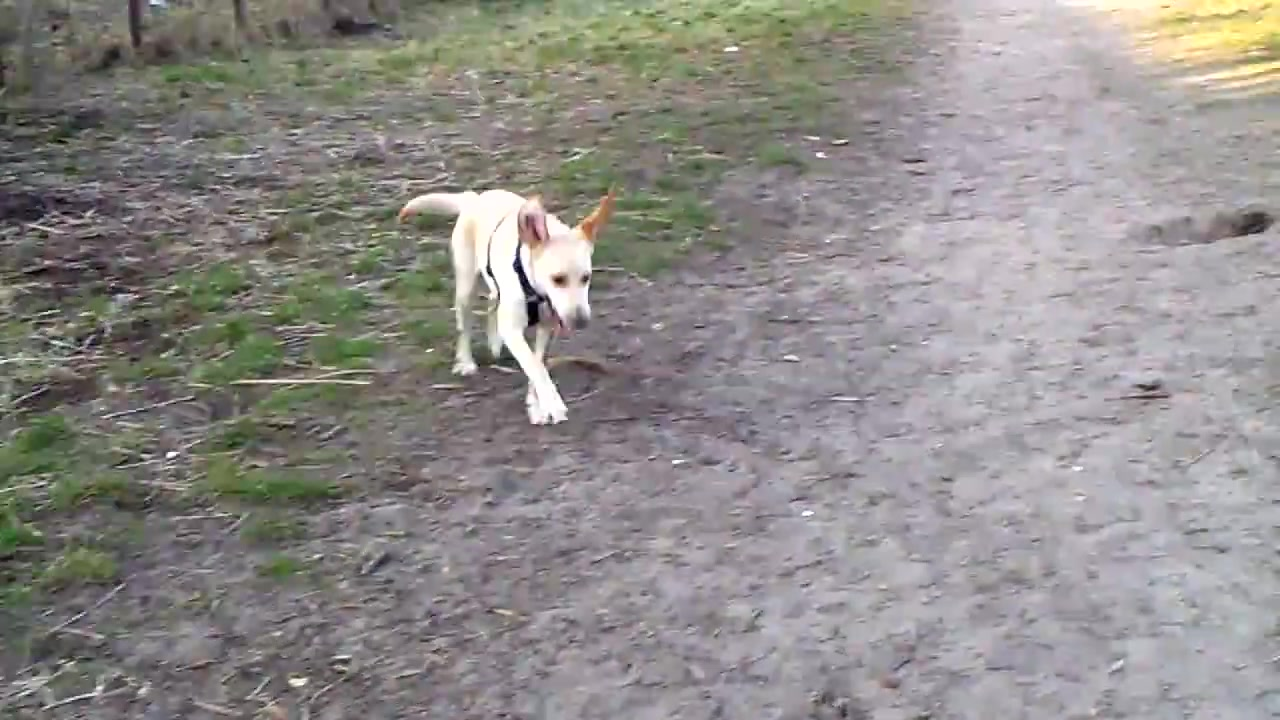dog: (400, 186, 620, 431)
